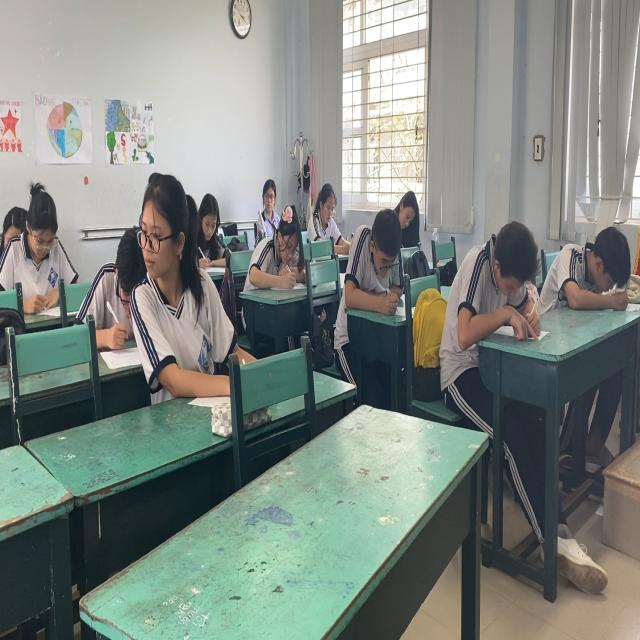cheating: (111, 172, 218, 348)
not_cheating: (452, 221, 537, 342), (551, 210, 632, 321), (5, 176, 76, 293), (344, 213, 399, 290), (256, 204, 306, 286), (304, 187, 340, 254), (253, 173, 280, 224), (393, 194, 424, 231)
